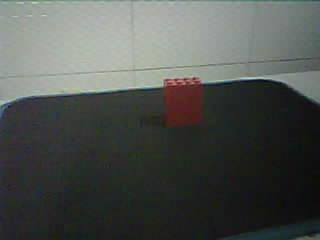lego: (163, 75, 203, 127)
